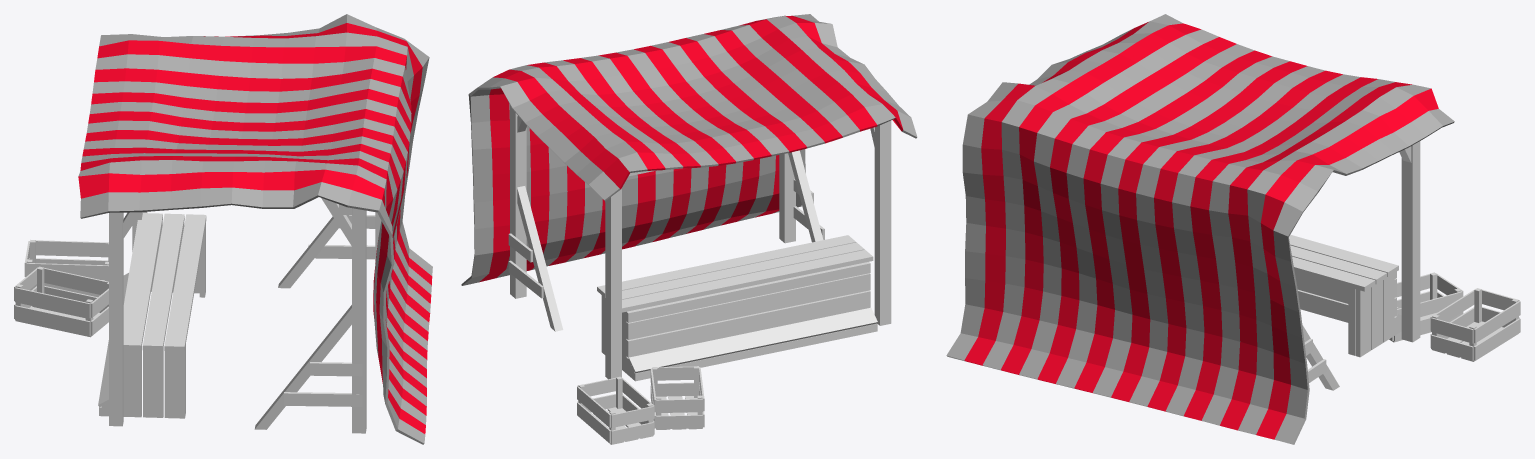
File: Refeitorio.fbx
3 renders of one model, left to right at view 1: azimuth 30°, elevation 25°; view 2: azimuth 150°, elevation 25°; view 3: azimuth 270°, elevation 25°, orthographic. The views are drawn at different scales.
Visible parts, largest first — view 1: Plane.013, Plane.014, Plane.012, Plane.015; view 2: Plane.013, Plane.014, Plane.012, Plane.015; view 3: Plane.013, Plane.014, Plane.015, Plane.012.
Boxes of the visible parts, box(x1,y1,x2,y2) form: Plane.013: box(78, 14, 432, 444); Plane.014: box(98, 213, 206, 418); Plane.012: box(109, 198, 381, 433); Plane.015: box(14, 239, 108, 337); Plane.013: box(461, 14, 917, 285); Plane.014: box(597, 235, 877, 381); Plane.012: box(508, 105, 891, 379); Plane.015: box(577, 366, 704, 444); Plane.013: box(946, 14, 1454, 444); Plane.014: box(1289, 234, 1401, 357); Plane.015: box(1389, 272, 1520, 361); Plane.012: box(1302, 141, 1420, 390).
Size of the model in its own units: 649 by 400 by 776.
